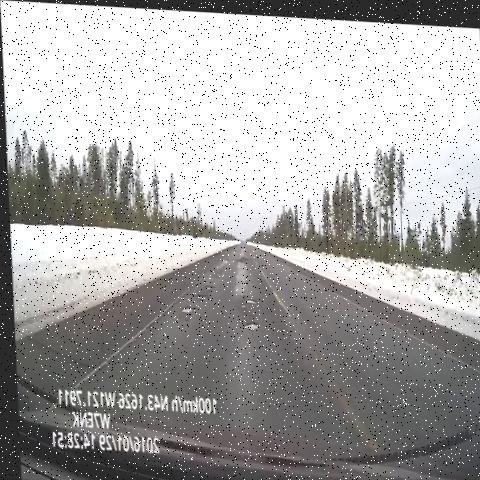pothole: (236, 289, 258, 310), (188, 290, 211, 310), (238, 309, 256, 328), (180, 304, 197, 323)
